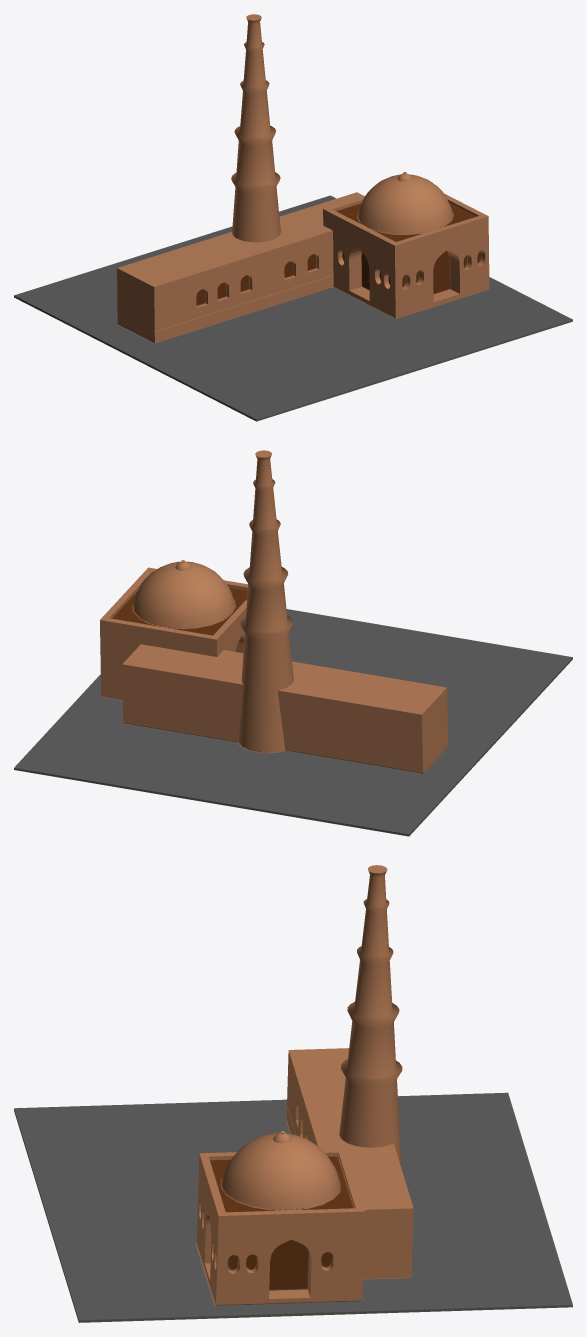
File: Gupta_Anushka_Env_blockout_coloured.fbx
The picture shows the model from 3 angles, top to bottom: view 1: azimuth 30°, elevation 25°; view 2: azimuth 150°, elevation 25°; view 3: azimuth 270°, elevation 25°; orthographic projection. The views are drawn at different scales.
Parts seen in each view (by area): view 1: node_id6, node_id92, node_id102, node_id4; view 2: node_id6, node_id102, node_id92, node_id4; view 3: node_id6, node_id92, node_id102, node_id4.
Part boxes in pixels (<box>): node_id6: <box>14,195,572,421</box>; node_id92: <box>323,172,489,318</box>; node_id102: <box>117,192,363,342</box>; node_id4: <box>231,14,280,242</box>; node_id6: <box>14,609,572,836</box>; node_id102: <box>122,644,448,773</box>; node_id92: <box>100,560,247,699</box>; node_id4: <box>238,450,293,752</box>; node_id6: <box>14,1092,572,1322</box>; node_id92: <box>196,1131,364,1305</box>; node_id102: <box>286,1048,413,1279</box>; node_id4: <box>339,865,402,1169</box>.
Size of the model in its own units: 0.5743 by 0.3898 by 0.5741.
4 materials, 4 textured.
